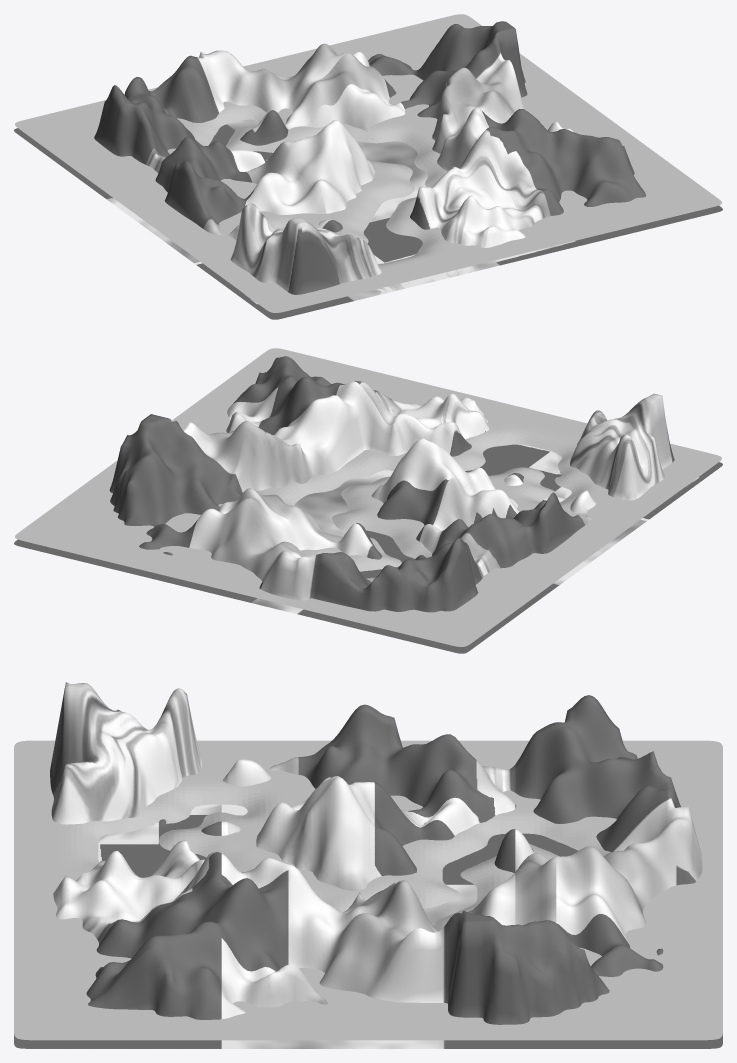
Rendered from Area3.fbx.
The picture shows the model from 3 angles, top to bottom: view 1: azimuth 30°, elevation 25°; view 2: azimuth 150°, elevation 25°; view 3: azimuth 270°, elevation 25°; orthographic projection. The views are drawn at different scales.
Parts seen in each view (by area): view 1: 灞盻Baked001, shui001; view 2: 灞盻Baked001, shui001; view 3: 灞盻Baked001, shui001.
Part boxes in pixels (x1=…): 灞盻Baked001: x1=14, y1=21, x2=722, y2=319; shui001: x1=15, y1=14, x2=721, y2=312; 灞盻Baked001: x1=14, y1=356, x2=722, y2=653; shui001: x1=15, y1=348, x2=721, y2=646; 灞盻Baked001: x1=14, y1=682, x2=722, y2=1048; shui001: x1=14, y1=740, x2=722, y2=1040.
Size of the model in its own units: 187 by 29.45 by 187.
